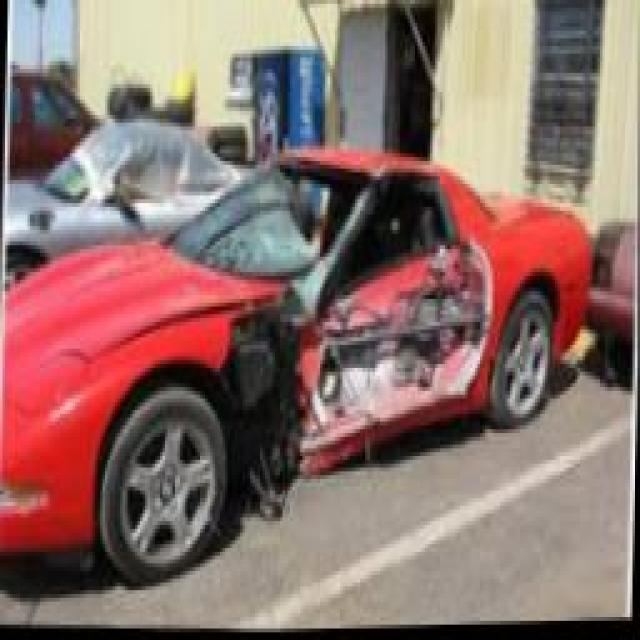Door: (286, 168, 504, 479)
Fender: (83, 278, 299, 525)
Windshield: (154, 155, 371, 277)
